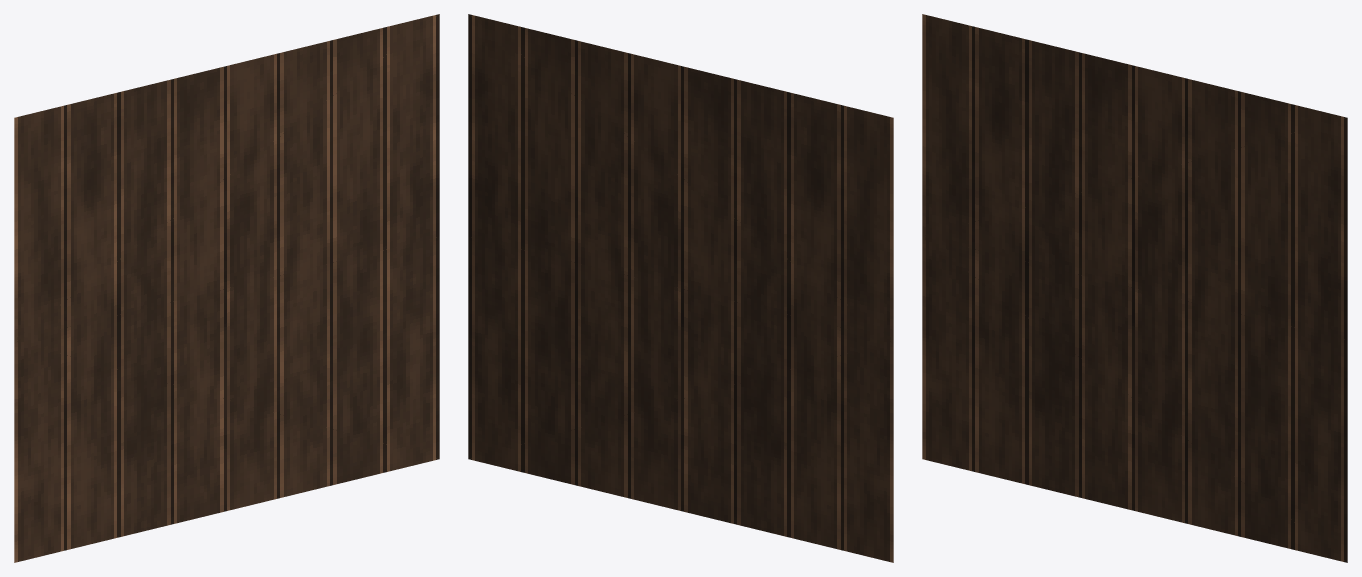
File: house_wall_c_2x2.glb
The picture shows the model from 3 angles, left to right: view 1: azimuth 30°, elevation 25°; view 2: azimuth 150°, elevation 25°; view 3: azimuth 330°, elevation 25°; orthographic projection.
Parts seen in each view (by area): view 1: house_wall_c_2x2; view 2: house_wall_c_2x2; view 3: house_wall_c_2x2.
Boxes of the visible parts, left/top/right/bottom form: house_wall_c_2x2: left=14, top=14, right=439, bottom=562; house_wall_c_2x2: left=468, top=14, right=893, bottom=562; house_wall_c_2x2: left=922, top=14, right=1347, bottom=562.
Size of the model in its own units: 2 by 2 by 7.55e-08.
1 material, 1 textured.
